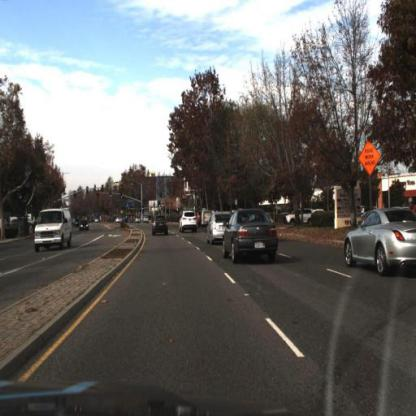car: (339, 207, 415, 288), (222, 203, 288, 273), (32, 201, 76, 260), (204, 202, 229, 254), (282, 199, 319, 233), (205, 211, 233, 247), (175, 204, 200, 238), (284, 206, 314, 229), (150, 212, 172, 241)
